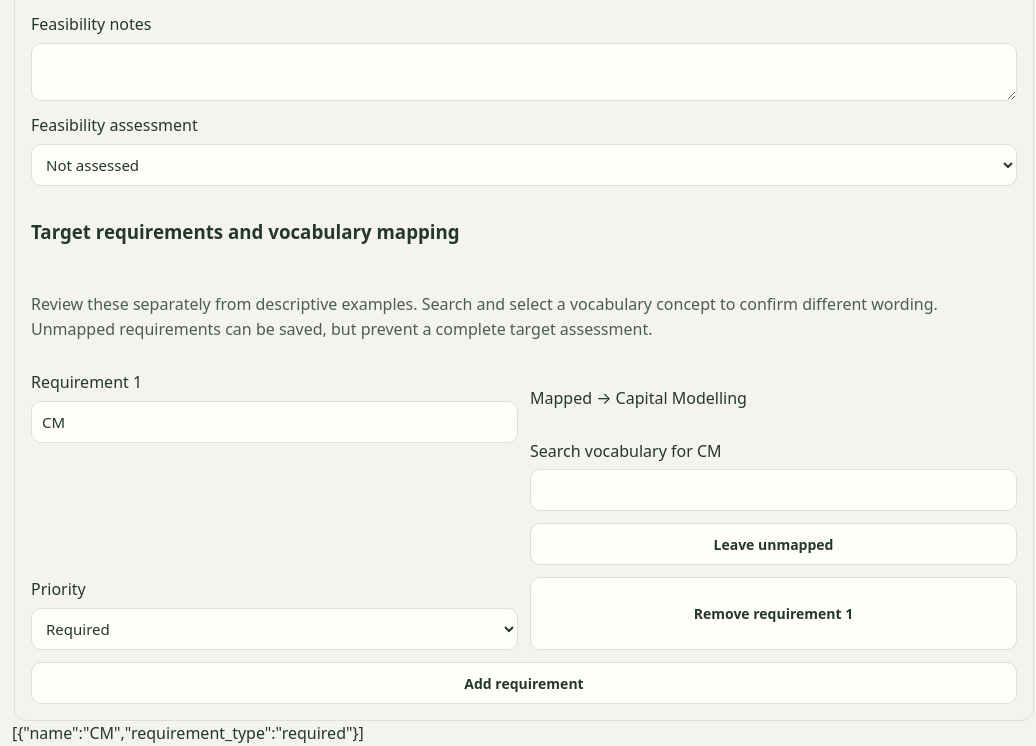
Test: shows aliases as their canonical vocabulary name and permits explicit unmapped choice
(page scrolled)
Expected: the text "Mapped → Capital Modelling" is shown, [530,387,747,409]
Click the button "Leave unmapped".
click(774, 544)  # box [530,524,1017,566]
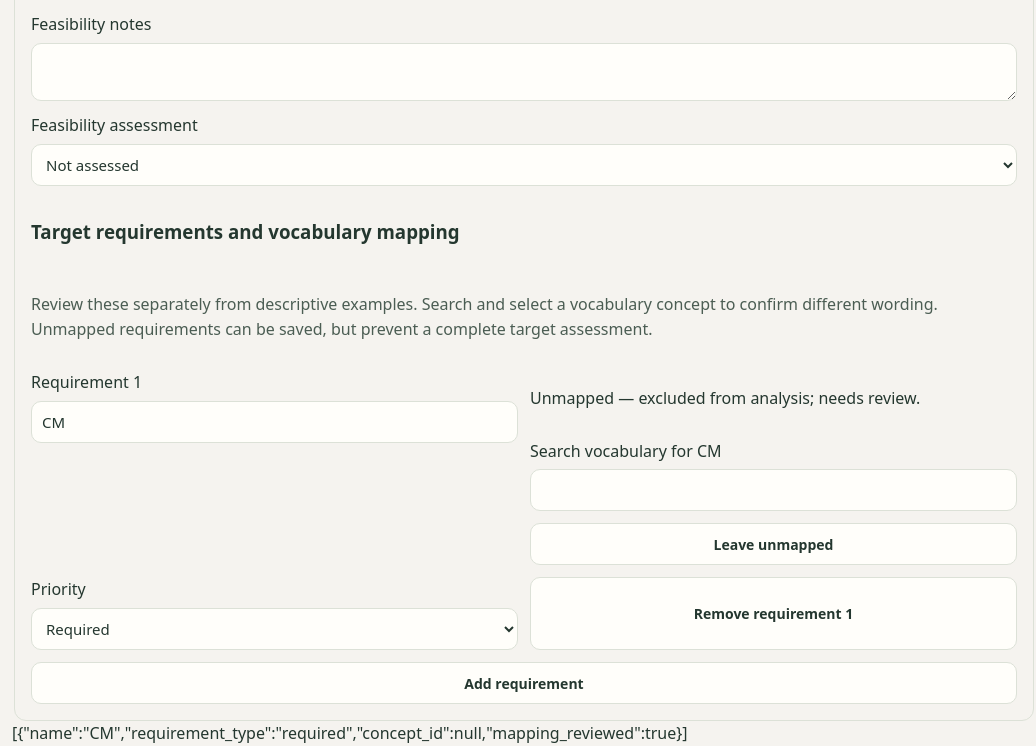
Now the text "Unmapped — excluded from analysis; needs review." is shown, box [530,387,920,409]
Now the text with test id "draft" shows "\"mapping_reviewed\":true", box [12,722,688,744]
